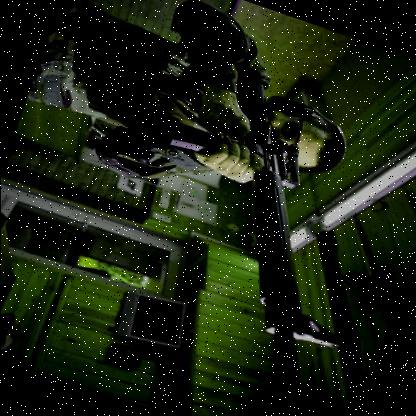rifle: (81, 37, 416, 416)
